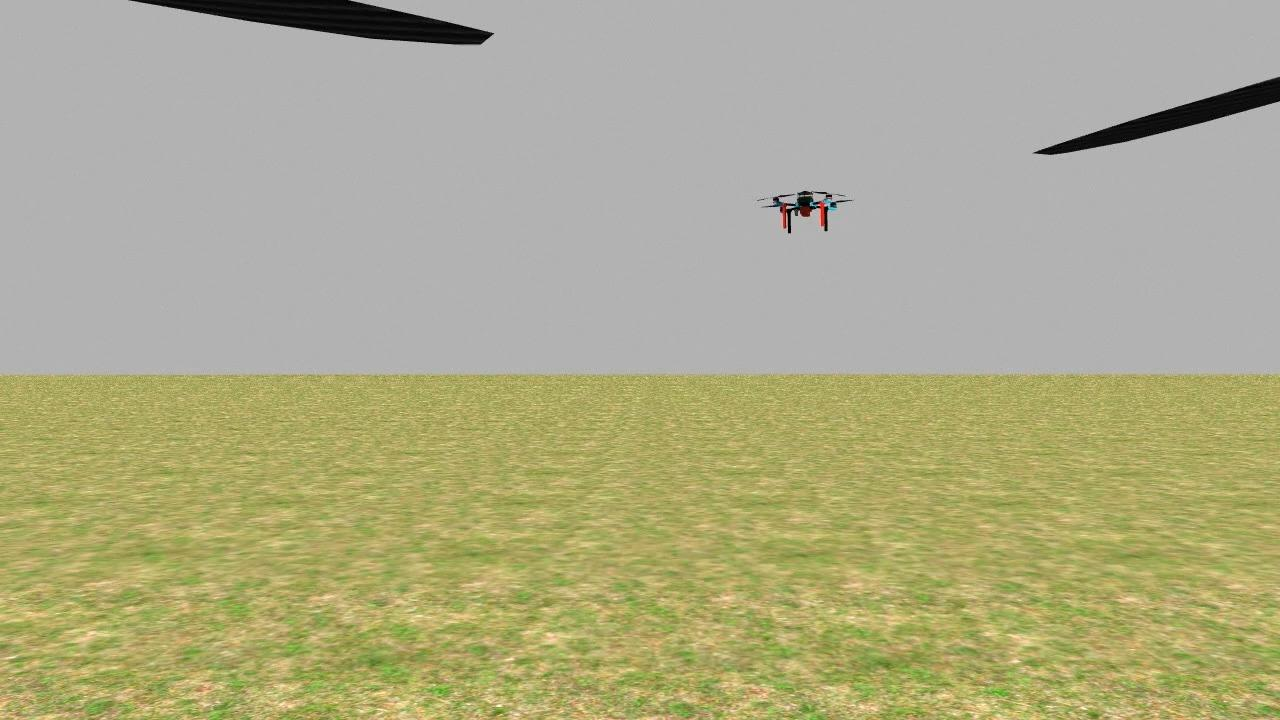UAV: (762, 184, 846, 234)
